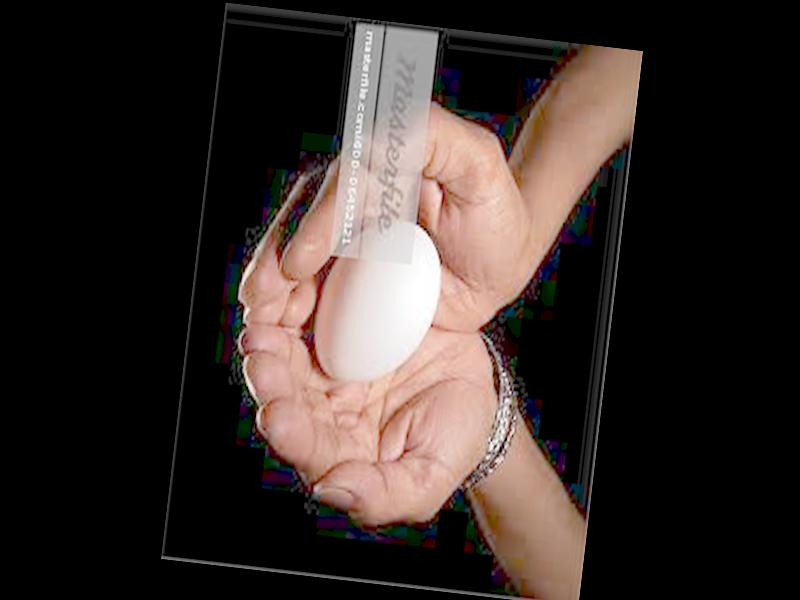Eggs: (307, 212, 447, 392)
